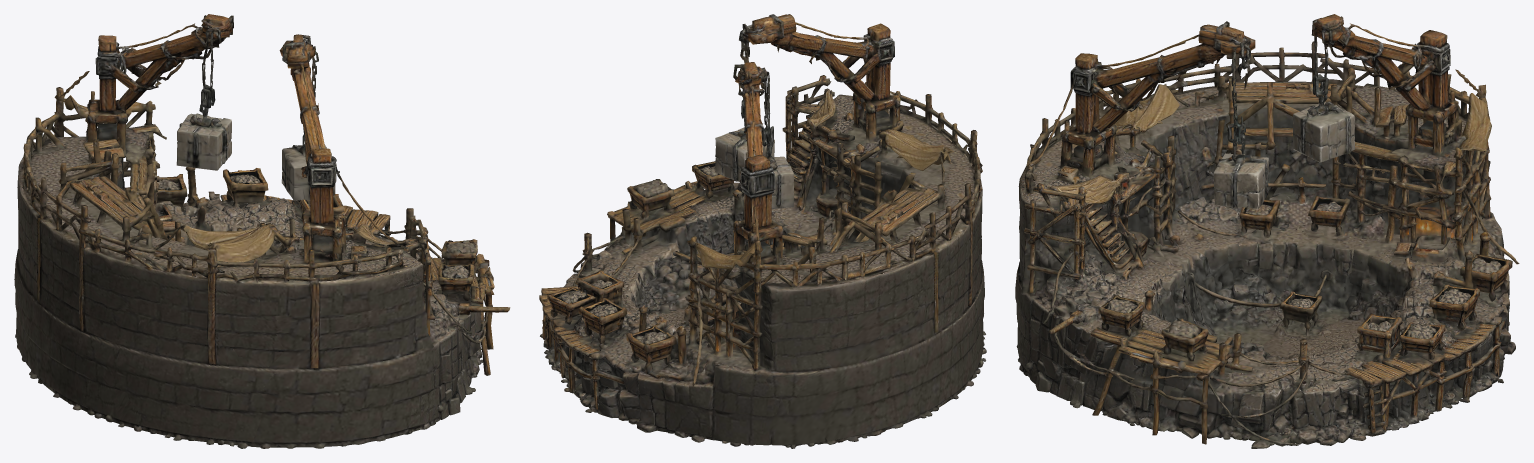
Rendered from tripo_convert_179111b2-e04f-4cd6-88e4-2986134959a7.fbx.
The picture shows the model from 3 angles, left to right: view 1: azimuth 30°, elevation 25°; view 2: azimuth 150°, elevation 25°; view 3: azimuth 270°, elevation 25°; orthographic projection. The views are drawn at different scales.
Visible parts, largest first — view 1: tripo_node_179111b2; view 2: tripo_node_179111b2; view 3: tripo_node_179111b2.
Part boxes in pixels (x1,y1,x2,y2): tripo_node_179111b2: [14, 14, 510, 448]; tripo_node_179111b2: [539, 14, 986, 448]; tripo_node_179111b2: [1015, 14, 1519, 448].
Bounding box in the file's own units: 0.9307 × 0.7064 × 0.9793.
Materials: 1 (1 with a texture image).
